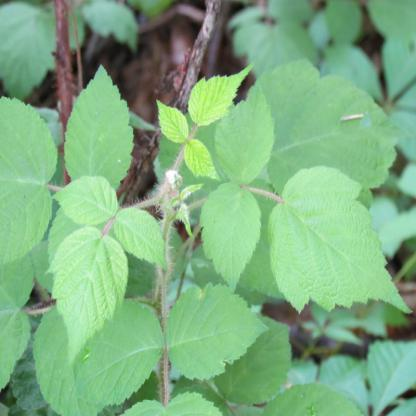Raspberry leaf: (270, 166, 414, 317), (50, 224, 130, 356), (168, 283, 270, 385), (213, 77, 278, 188), (200, 180, 262, 296), (113, 205, 168, 269), (48, 176, 121, 223)
